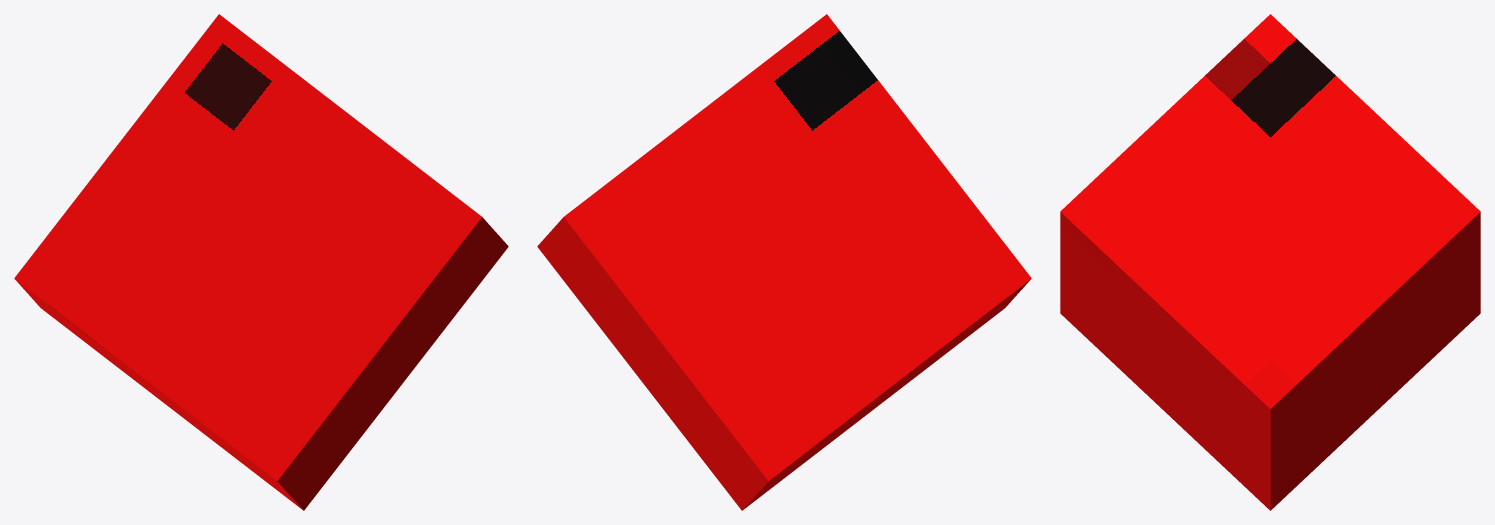
File: Apple_LOW_POLY_final.fbx
3 renders of one model, left to right at view 1: azimuth 30°, elevation 25°; view 2: azimuth 150°, elevation 25°; view 3: azimuth 270°, elevation 25°, orthographic. The views are drawn at different scales.
Visible parts, largest first — view 1: Cube; view 2: Cube; view 3: Cube.
Boxes of the visible parts, x1=… form: Cube: x1=14, y1=14, x2=508, y2=510; Cube: x1=537, y1=14, x2=1031, y2=510; Cube: x1=1060, y1=14, x2=1480, y2=510.
Size of the model in its own units: 283 by 341 by 341.
Materials: 1 (1 with a texture image).
